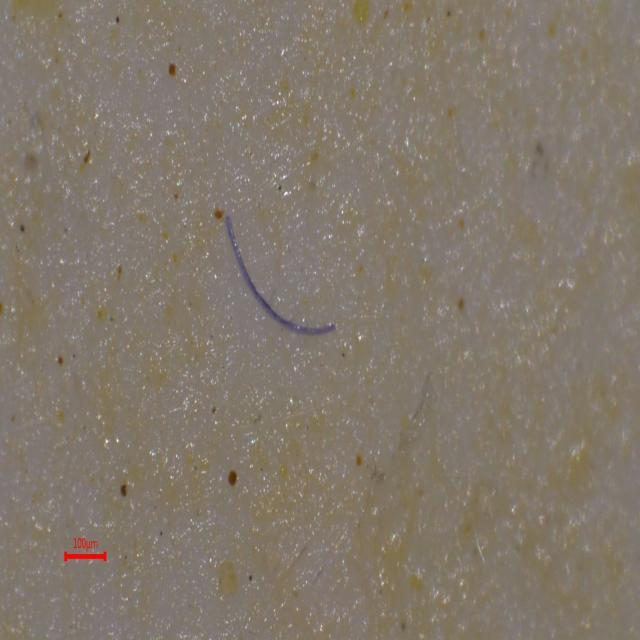Fibre: (218, 210, 340, 340)
